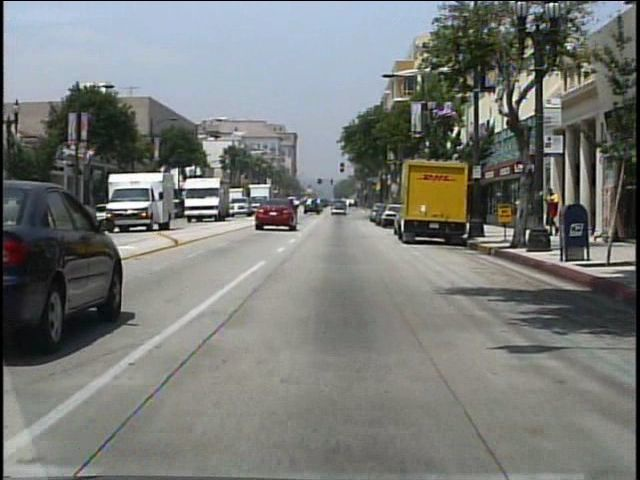person: (543, 186, 561, 235)
